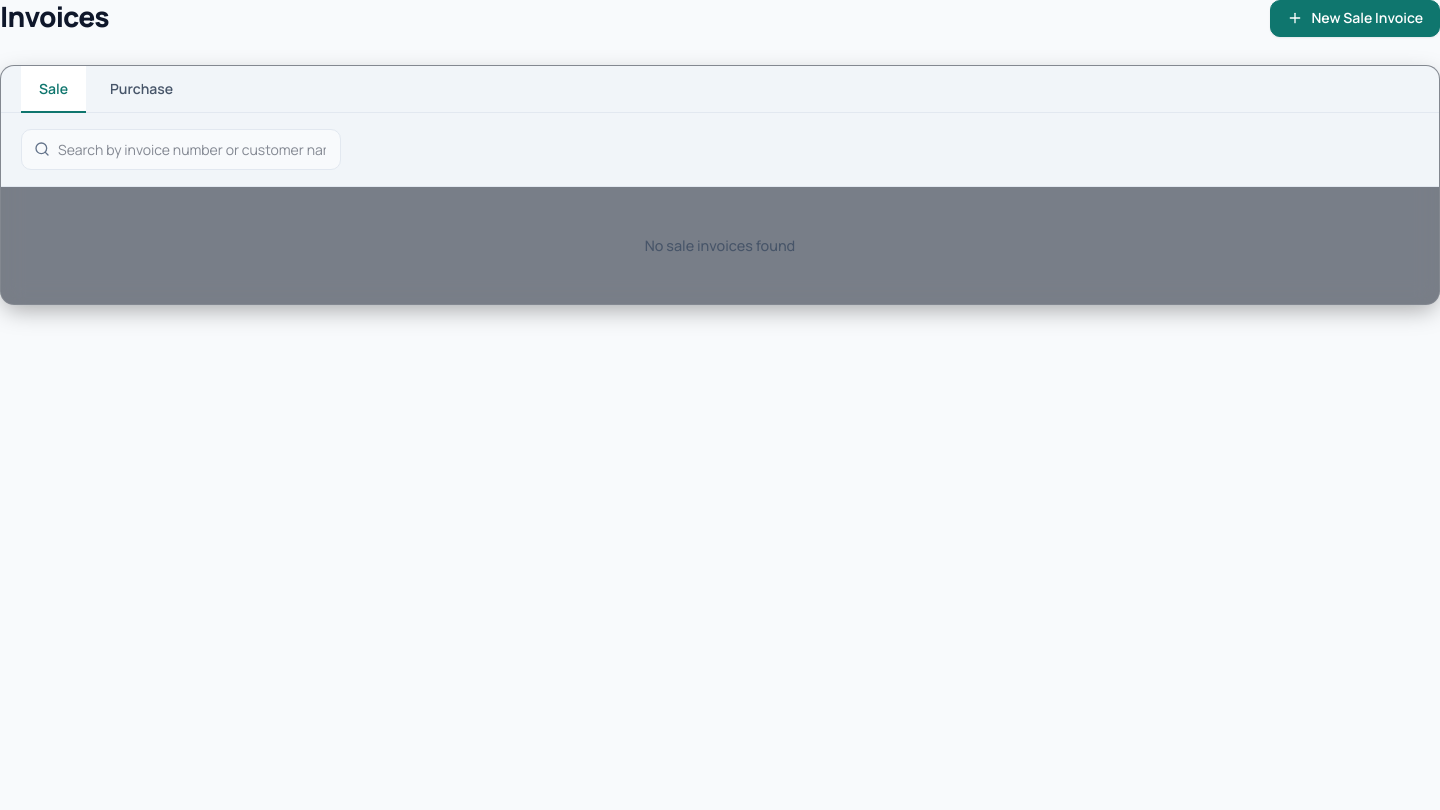
Test: medicine picker › matches on manufacturer as well as name
Click the button "New Sale Invoice": (1355, 18) [1270,0,1439,37]
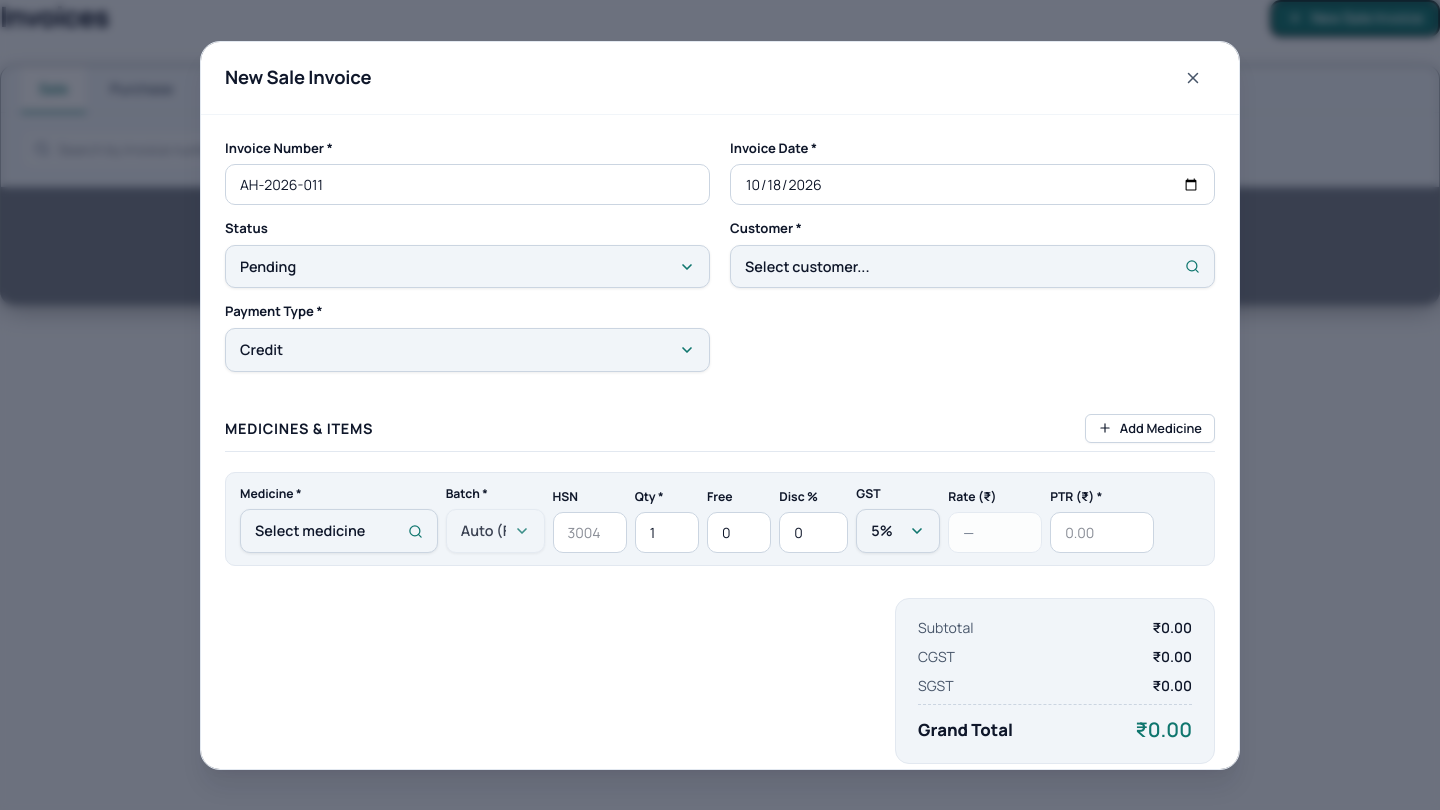
expect the heading "New Sale Invoice" is shown: met, box [225,64,371,91]
Click the button with class "searchable-select-trigger" showing "Select medicine": (339, 531) [240,509,438,553]
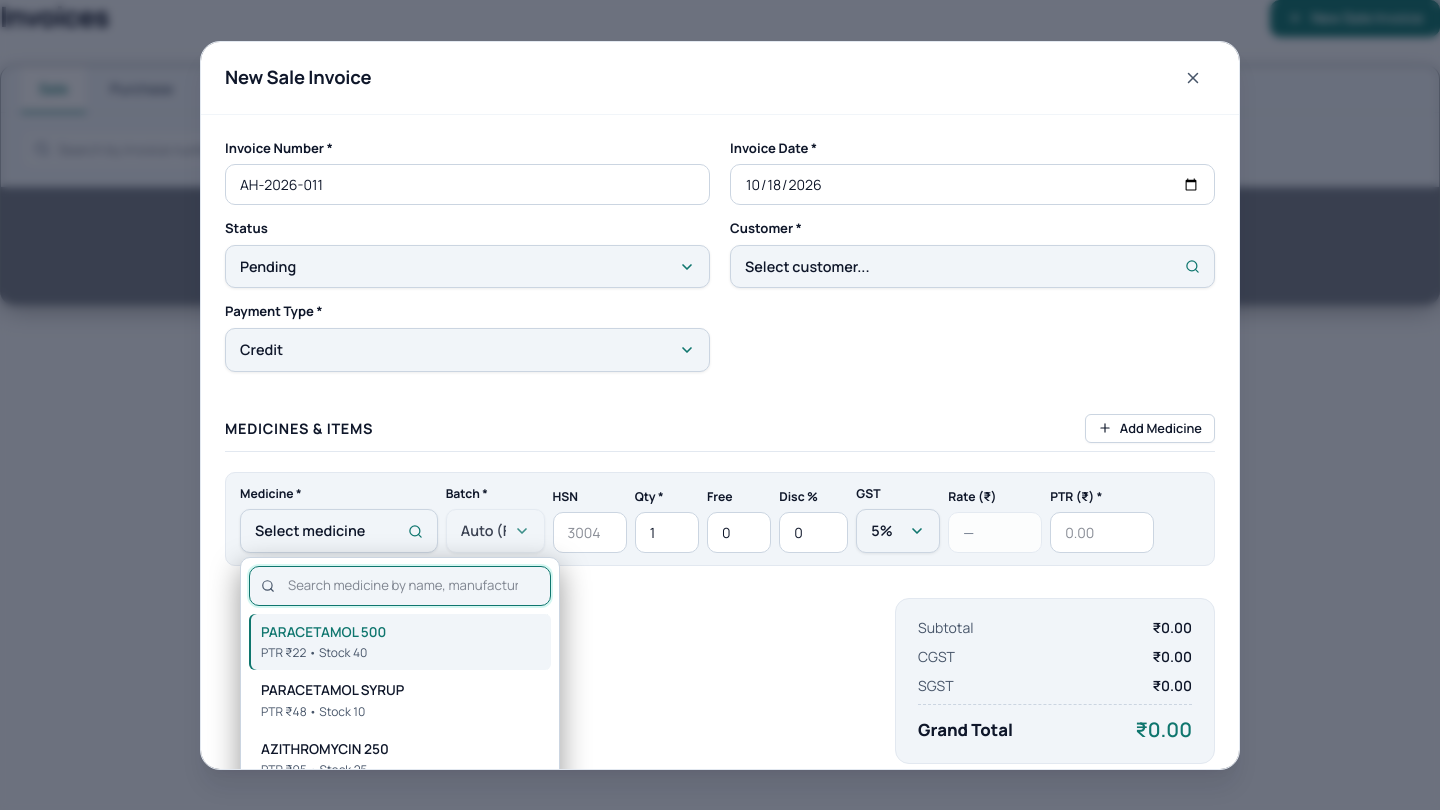
In the field with placeholder "Search medicine by name, manufacturer, HSN...": (400, 586) [249,566,551,606], type "sun"
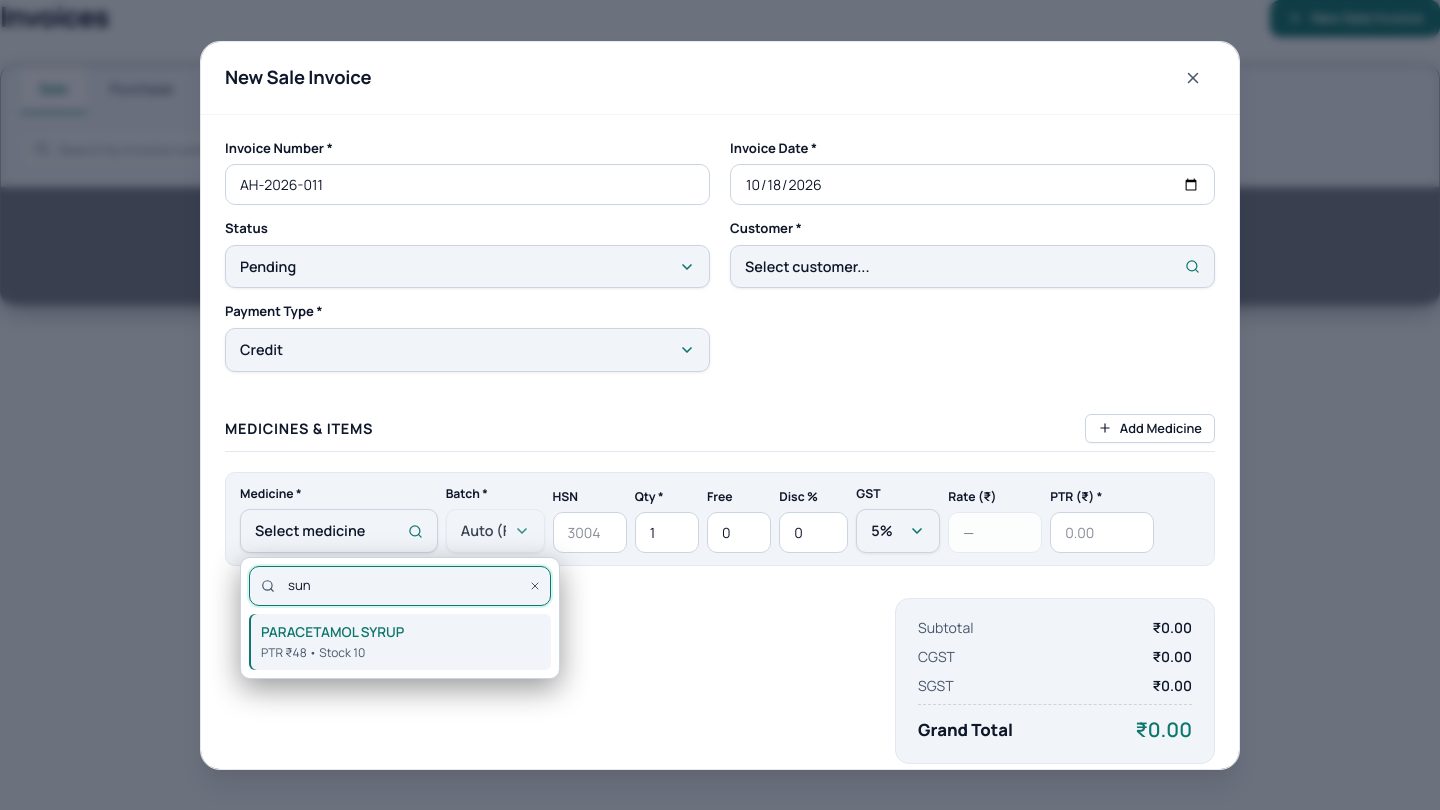
expect the button with class "searchable-select-option" shows "PARACETAMOL SYRUP": met, box [249,614,551,670]
expect the number of buttons with class "searchable-select-option" is 1: met, box [249,614,551,670]
